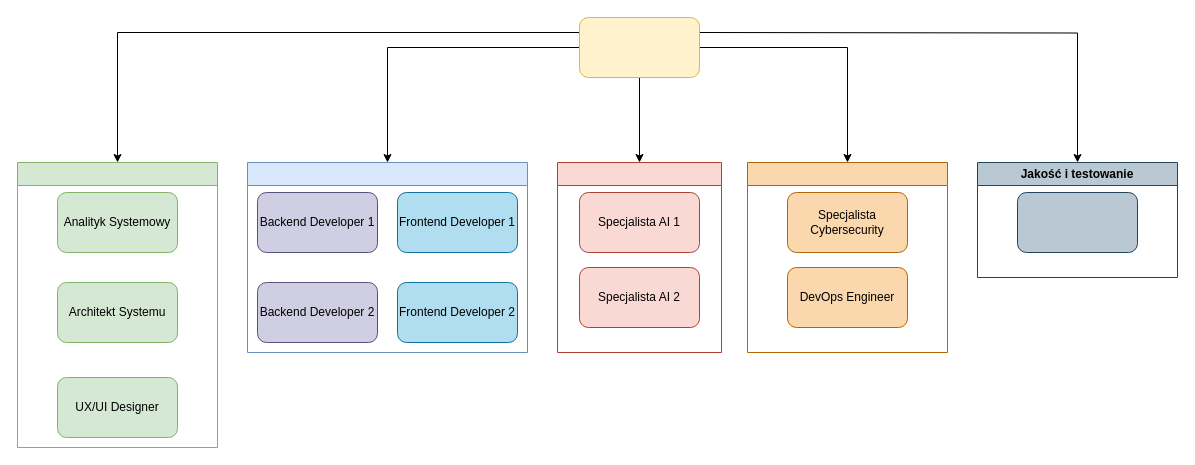
Some shapes in this 1195 by 465 pixel diagram are drawn without their labels. Each missing label, with the box of its shape:
Analityka i projektowanie systemu: (16, 162, 218, 448)
Bezpieczeństwo i infrastruktura: (746, 162, 948, 352)
Kierownik Projektu: (578, 16, 700, 78)
Tester: (1016, 192, 1138, 252)
Zespół AI: (556, 162, 722, 352)
Zespół programistyczny: (246, 162, 528, 352)
